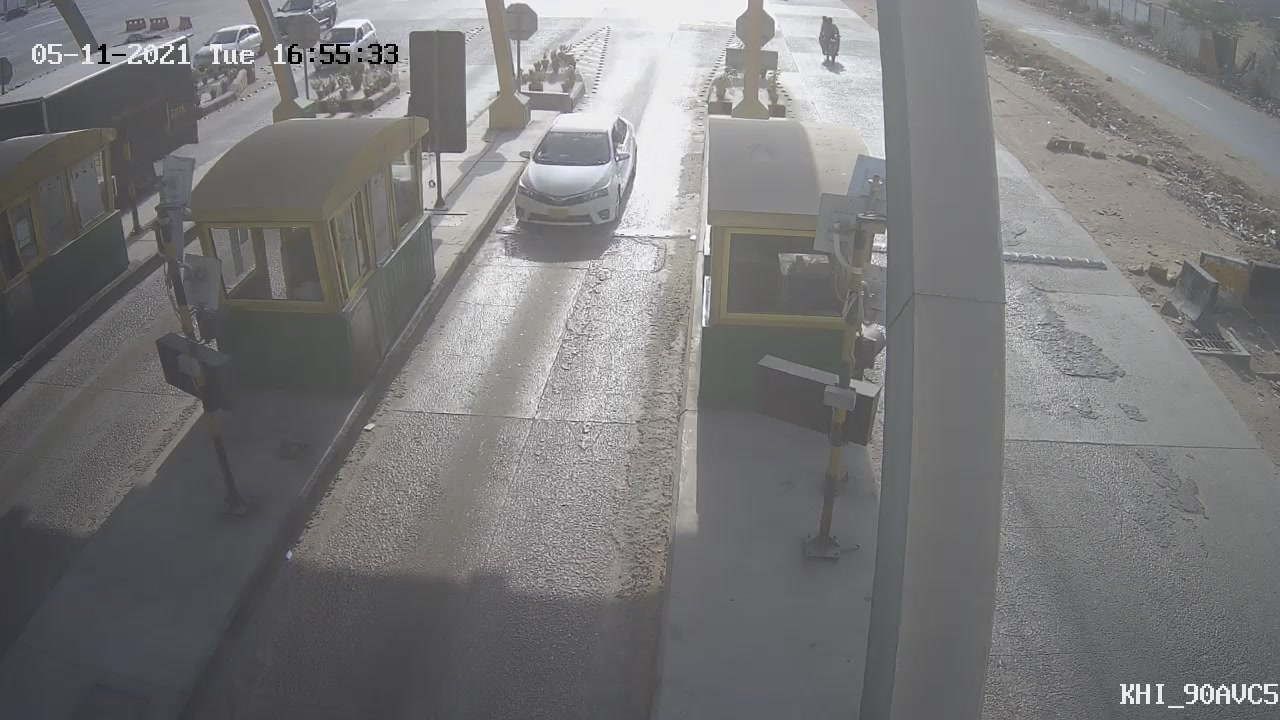F1: (492, 96, 659, 252)
